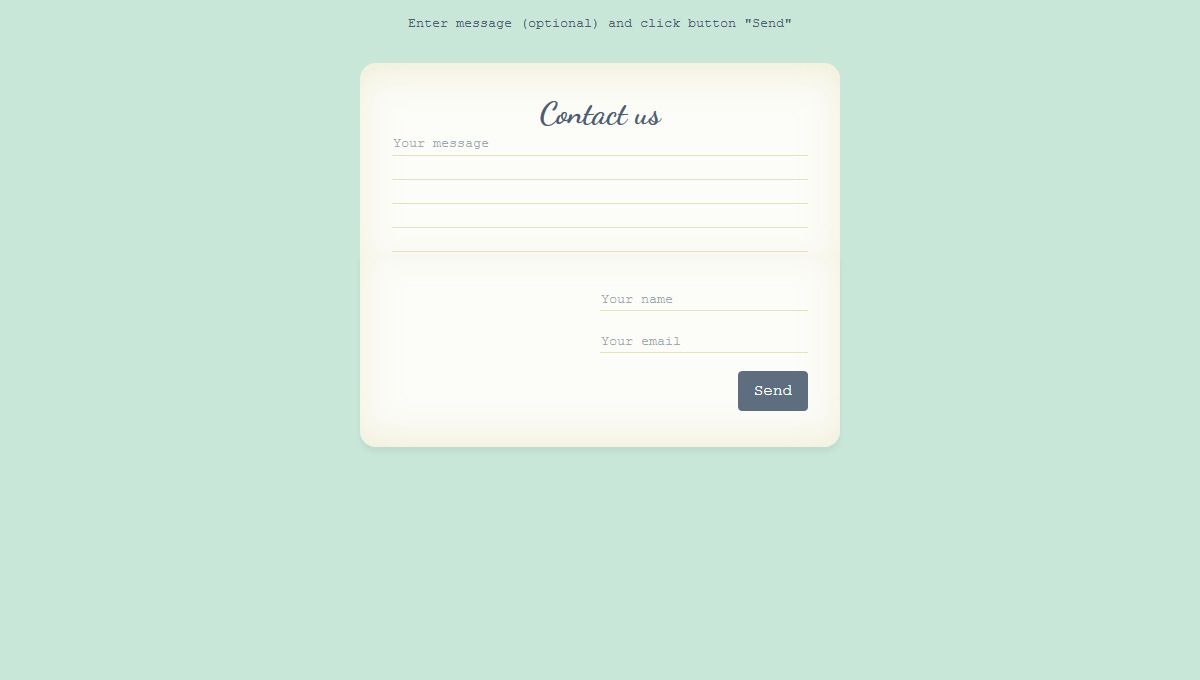button: (736, 370, 809, 410)
field_line: (390, 132, 808, 159), (595, 288, 809, 314), (598, 332, 811, 355)
